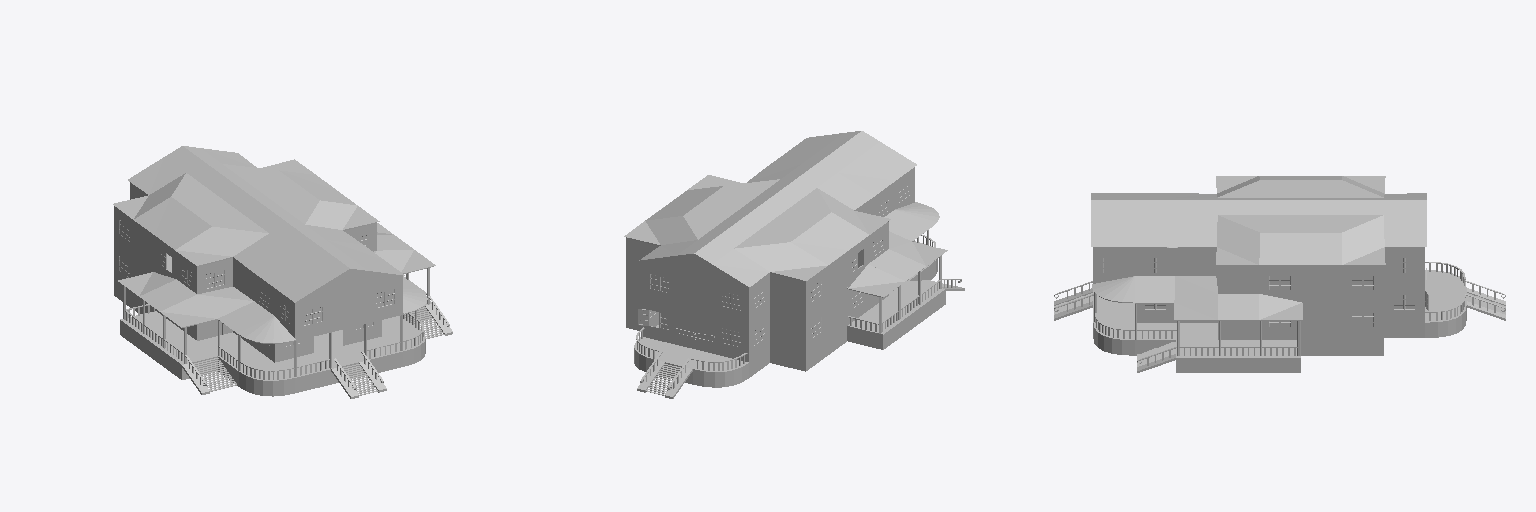
3 views of the same model, side by side, from view 1: azimuth 30°, elevation 25°; view 2: azimuth 150°, elevation 25°; view 3: azimuth 270°, elevation 25° (orthographic).
Visible parts, largest first — view 1: curveroofbottom002; view 2: curveroofbottom002; view 3: curveroofbottom002.
Boxes of the visible parts, x1=… form: curveroofbottom002: x1=113, y1=146, x2=452, y2=398; curveroofbottom002: x1=624, y1=131, x2=964, y2=398; curveroofbottom002: x1=1054, y1=176, x2=1505, y2=372.
Bounding box in the file's own units: 1.2 × 0.5083 × 1.85.